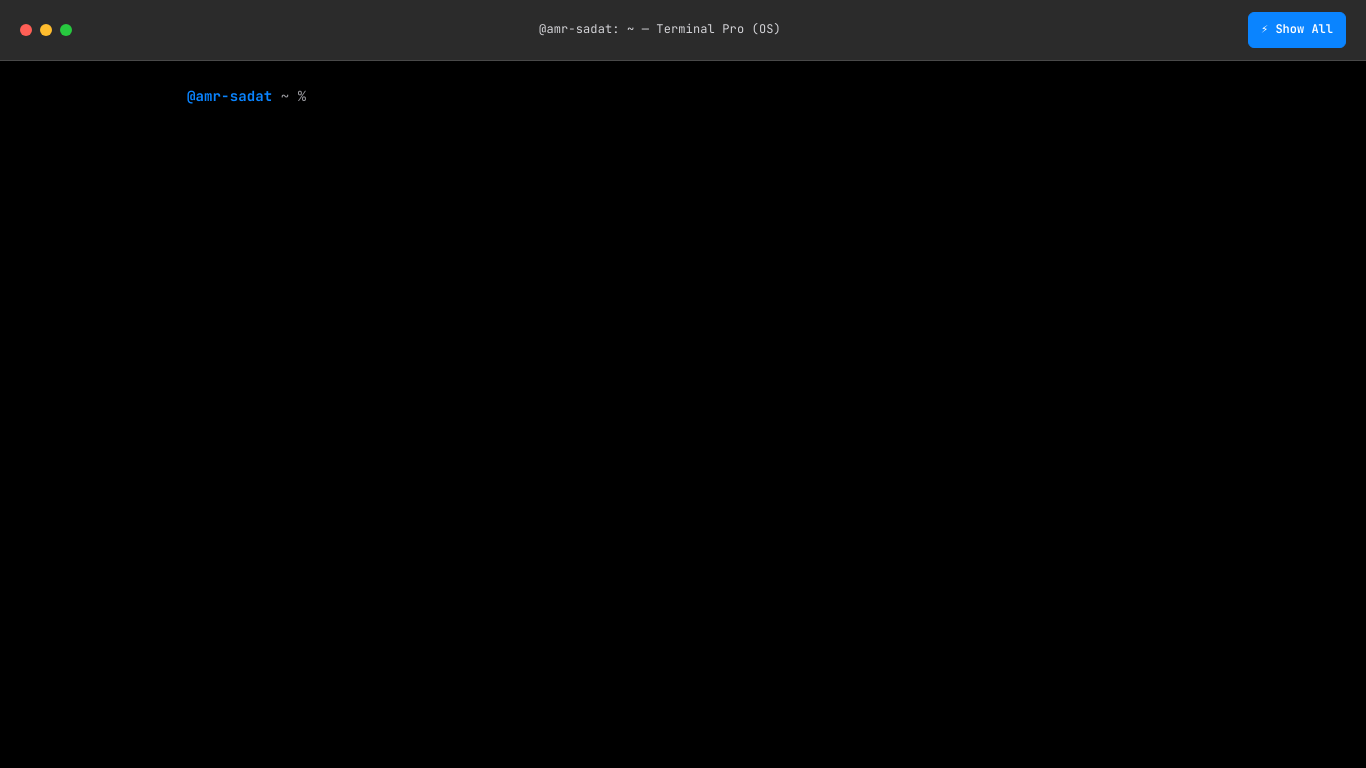
Test: macOS Terminal Pro /terminal route › renders full-screen macOS Terminal Pro without the classic top nav or footer
Click Show All to reveal all typed sections immediately
Click the button "⚡ Show All": click(1297, 30) x1=1248 y1=12 x2=1346 y2=48
(page scrolled)
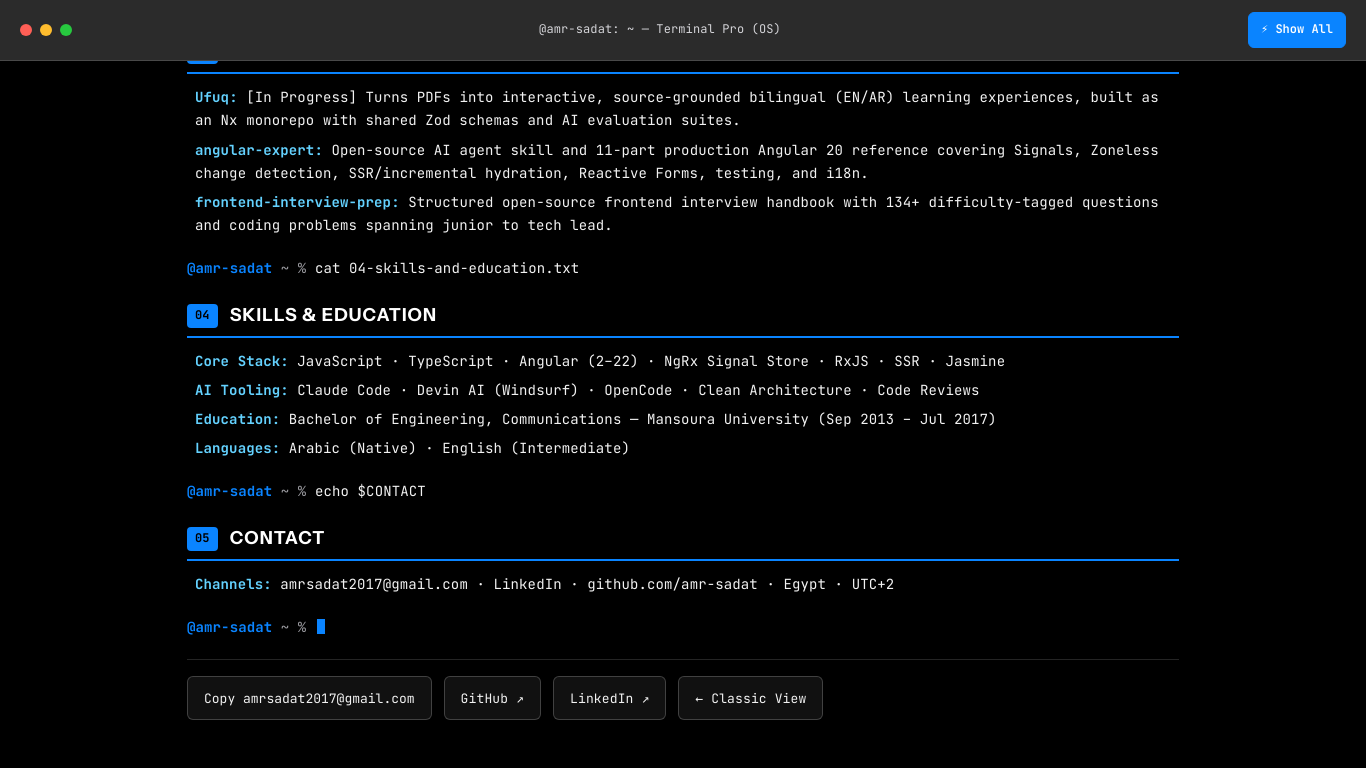
expect the heading "Personal Projects" is shown: met, box x1=230 y1=42 x2=441 y2=63
expect the heading "Skills & Education" is shown: met, box x1=230 y1=305 x2=437 y2=327
expect the heading "Contact" is shown: met, box x1=230 y1=528 x2=325 y2=550
